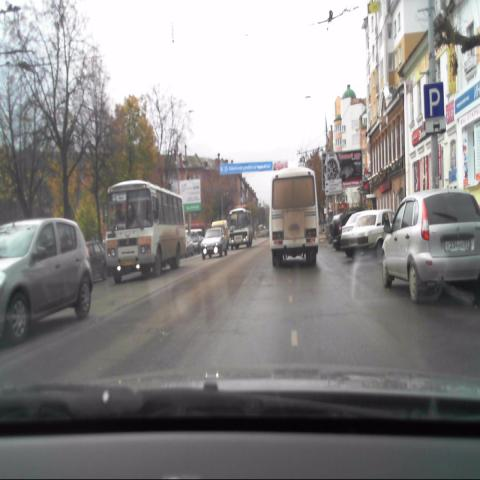8_6_2: (425, 119, 446, 131)
